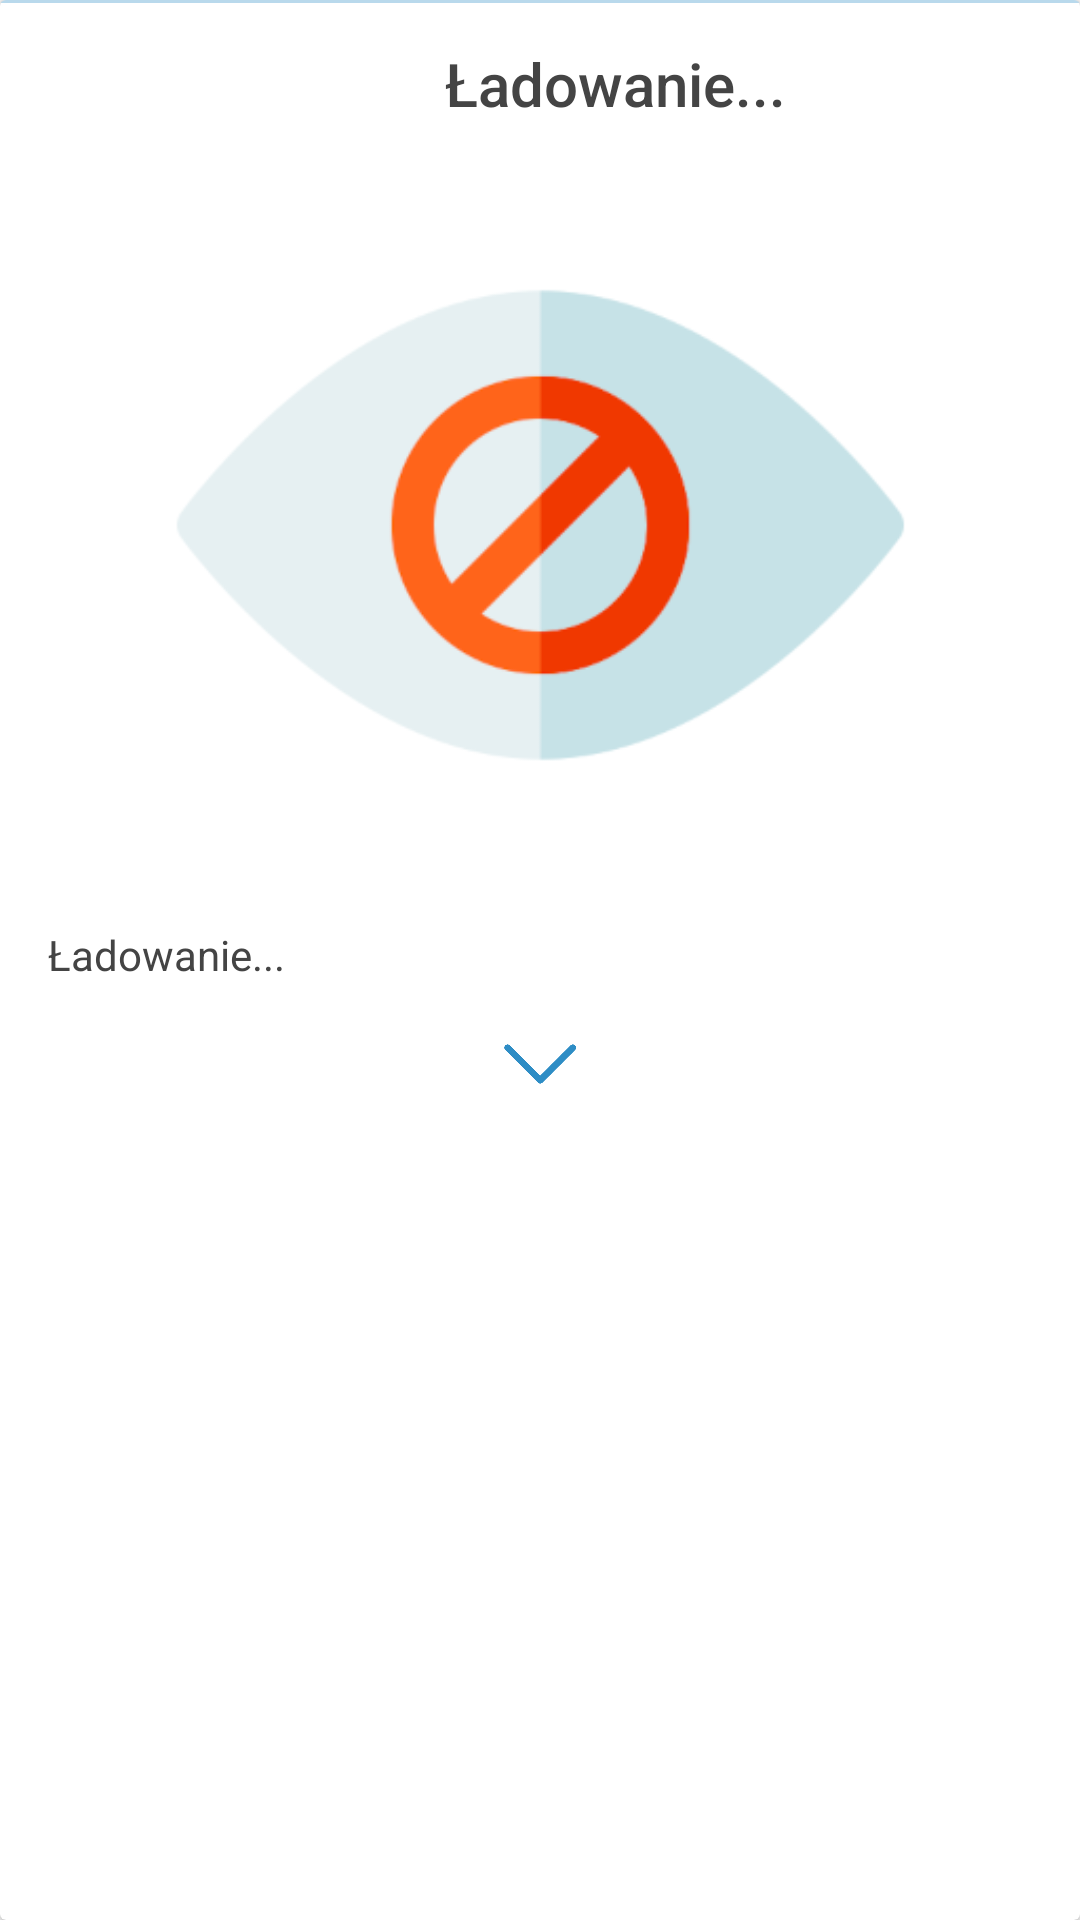

Icon click points for this 1080×1920 phone screenshot, format (x=x, y=y):
down arrow: (x=540, y=1064)
